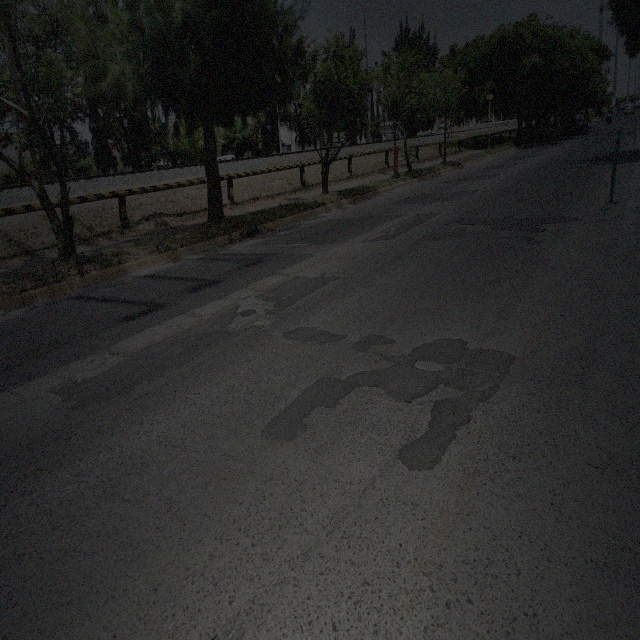pothole: (71, 346, 130, 388), (232, 296, 276, 328), (412, 357, 444, 374), (379, 220, 404, 238), (458, 223, 496, 234)
